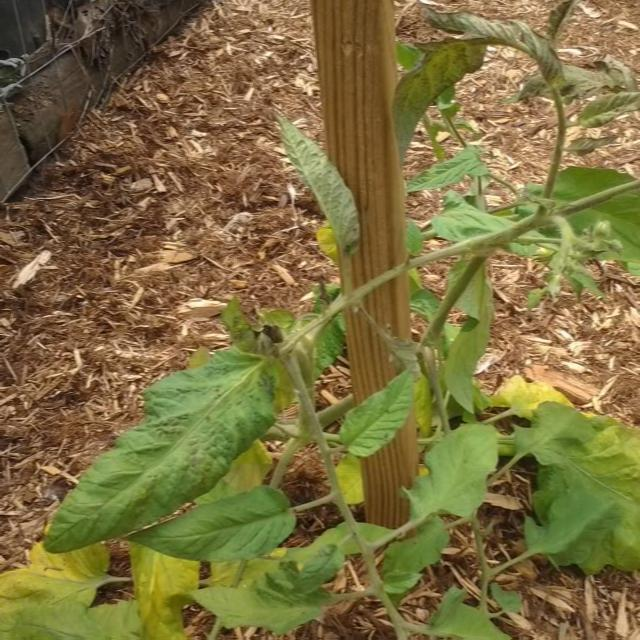Tomato leaf: (32, 346, 280, 551), (397, 403, 495, 538), (632, 211, 640, 293)
